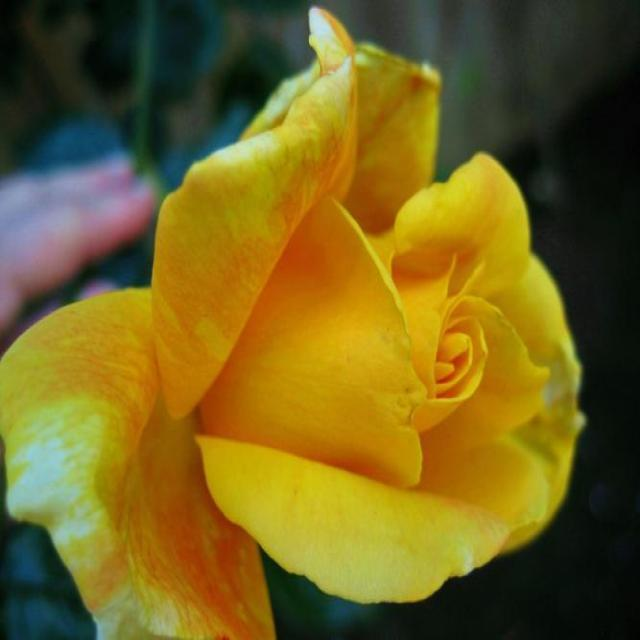rose: (2, 10, 636, 640)
